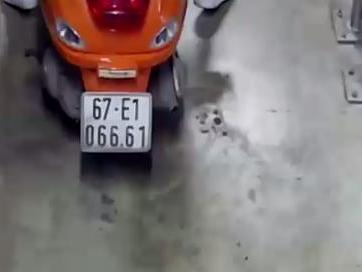num_plate: (79, 91, 151, 152)
